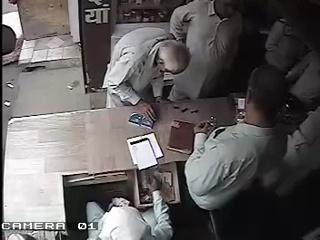Normal: (183, 64, 294, 239), (168, 0, 248, 101), (102, 27, 192, 114), (87, 172, 174, 240), (262, 17, 320, 112)
